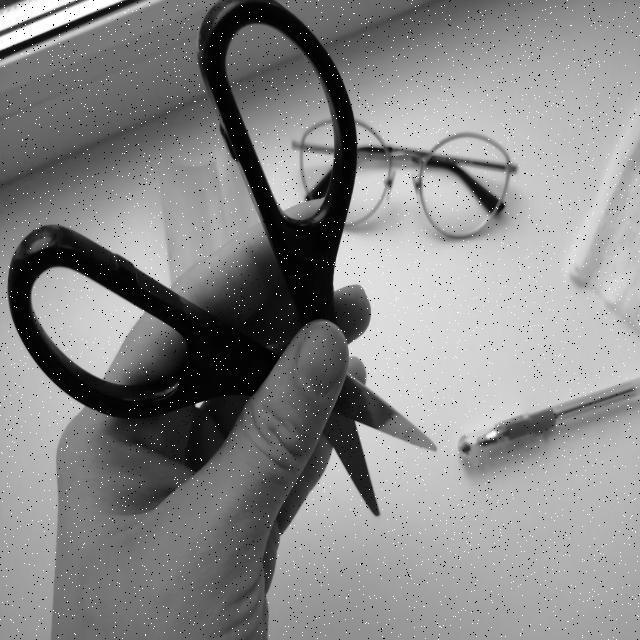scissors: (2, 2, 448, 552)
